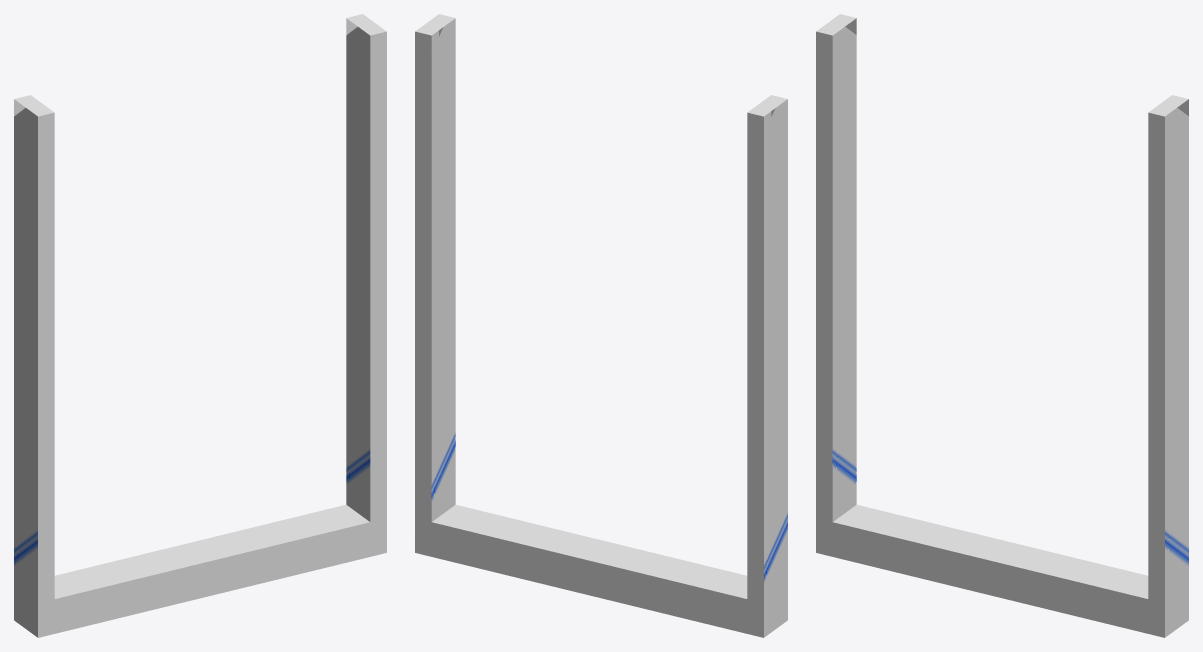
The model's file is PowerRoom_Stairs_09.fbx.
3 views of the same model, side by side, from view 1: azimuth 30°, elevation 25°; view 2: azimuth 150°, elevation 25°; view 3: azimuth 330°, elevation 25° (orthographic).
Parts seen in each view (by area): view 1: PowerRoom_Stairs_09; view 2: PowerRoom_Stairs_09; view 3: PowerRoom_Stairs_09.
Part boxes in pixels (box(x1,y1,x2,y2)): PowerRoom_Stairs_09: box(14, 14, 386, 637); PowerRoom_Stairs_09: box(415, 14, 787, 637); PowerRoom_Stairs_09: box(816, 14, 1188, 637).
Size of the model in its own units: 2.1 by 3 by 0.25.
